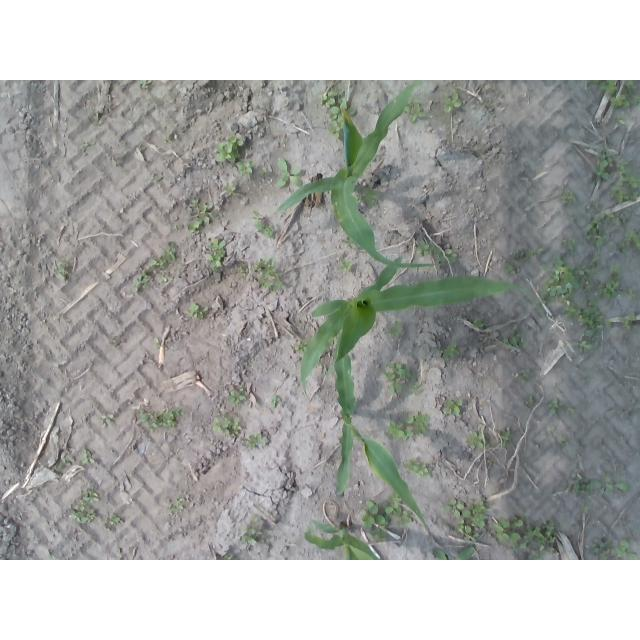Maize: (300, 258, 544, 397), (276, 80, 436, 268), (333, 329, 432, 534), (306, 520, 381, 560)
Weeds: (492, 514, 557, 560), (537, 252, 580, 307), (317, 86, 356, 139), (445, 497, 487, 544), (380, 359, 422, 397), (562, 299, 604, 333), (609, 161, 640, 204), (386, 411, 430, 440), (359, 500, 388, 544), (583, 209, 614, 248), (589, 540, 639, 561), (385, 493, 415, 528), (70, 490, 99, 525), (138, 409, 180, 432), (255, 258, 284, 291), (188, 198, 214, 233), (204, 237, 228, 271), (276, 157, 303, 187), (591, 146, 614, 181), (598, 266, 623, 298), (216, 134, 243, 163), (580, 257, 601, 294), (149, 242, 176, 268), (252, 211, 276, 240), (212, 414, 242, 437), (403, 93, 426, 123), (433, 544, 475, 560), (240, 515, 263, 544), (597, 473, 632, 491), (404, 458, 432, 478), (502, 324, 524, 349), (442, 88, 463, 113), (618, 230, 640, 253), (356, 185, 379, 206), (573, 474, 595, 495), (586, 80, 619, 94), (434, 246, 459, 263), (133, 271, 151, 294), (436, 343, 460, 360), (466, 430, 485, 450), (617, 313, 637, 332), (517, 247, 543, 261), (188, 303, 209, 320), (608, 92, 630, 108), (236, 161, 254, 180), (385, 321, 403, 340), (569, 338, 593, 352), (561, 236, 580, 253), (414, 240, 434, 256), (561, 189, 578, 207), (443, 398, 462, 414), (246, 435, 266, 450), (547, 398, 563, 416), (78, 449, 94, 467), (227, 388, 246, 403), (100, 412, 116, 428), (500, 429, 513, 448), (168, 497, 184, 512), (623, 81, 638, 96), (614, 212, 631, 225), (223, 183, 237, 198), (504, 263, 518, 278), (57, 262, 68, 281), (520, 368, 533, 384), (267, 394, 281, 408), (339, 257, 353, 271), (295, 339, 308, 354), (56, 457, 70, 470), (344, 235, 356, 249), (545, 426, 557, 439), (559, 433, 569, 448), (625, 288, 637, 300), (238, 265, 249, 278), (107, 515, 121, 525), (472, 318, 484, 329), (256, 166, 268, 176), (154, 174, 171, 181), (617, 115, 627, 126), (565, 406, 577, 415), (137, 81, 152, 88), (633, 94, 640, 107), (604, 317, 612, 328), (526, 394, 534, 405), (153, 336, 160, 348), (581, 505, 589, 514), (222, 556, 234, 561), (172, 225, 178, 232)
